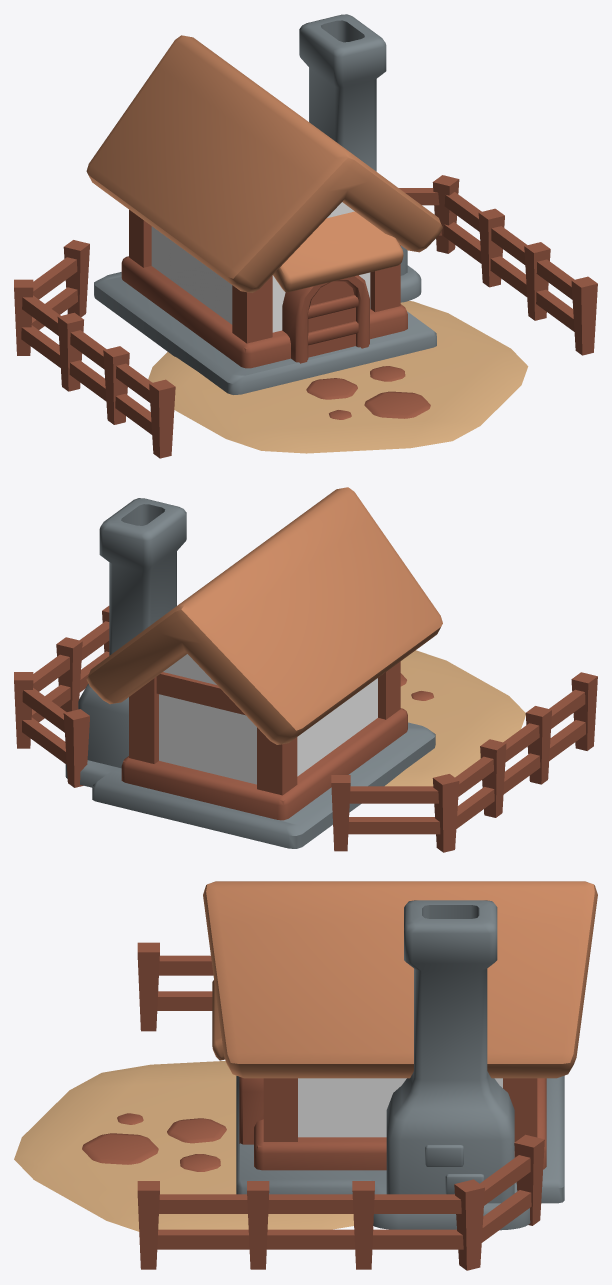
Rendered from house.glb.
3 renders of one model, top to bottom at view 1: azimuth 30°, elevation 25°; view 2: azimuth 150°, elevation 25°; view 3: azimuth 270°, elevation 25°, orthographic. The views are drawn at different scales.
Visible parts, largest first — view 1: house; view 2: house; view 3: house.
Part boxes in pixels (box(x1,y1,x2,y2)): house: box(14, 14, 597, 458); house: box(14, 487, 597, 852); house: box(14, 881, 597, 1270).
Bounding box in the file's own units: 1.69 × 0.9138 × 1.66.
